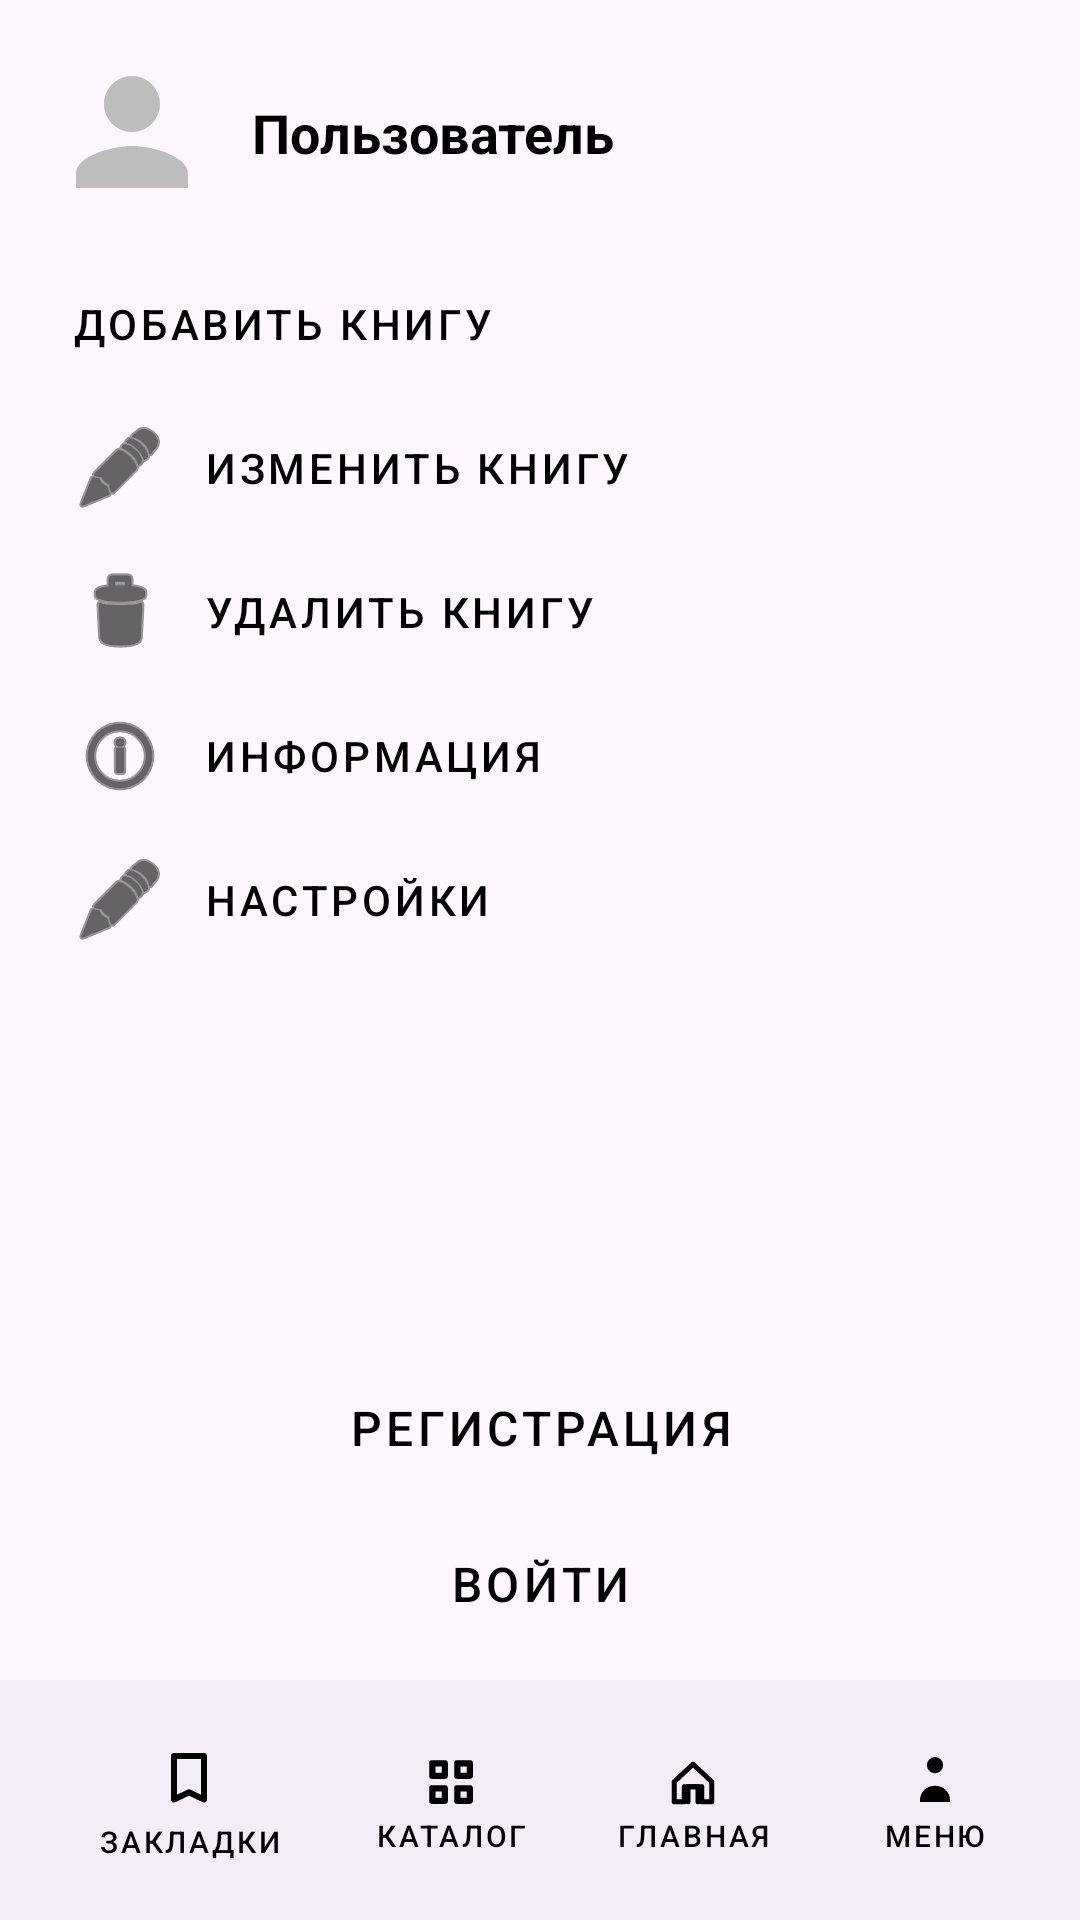

Locate icon controls on the screen. Image size 1080×1920, boxes as region(x1, y1, x2, y2).
User avatar: region(76, 76, 188, 188)
